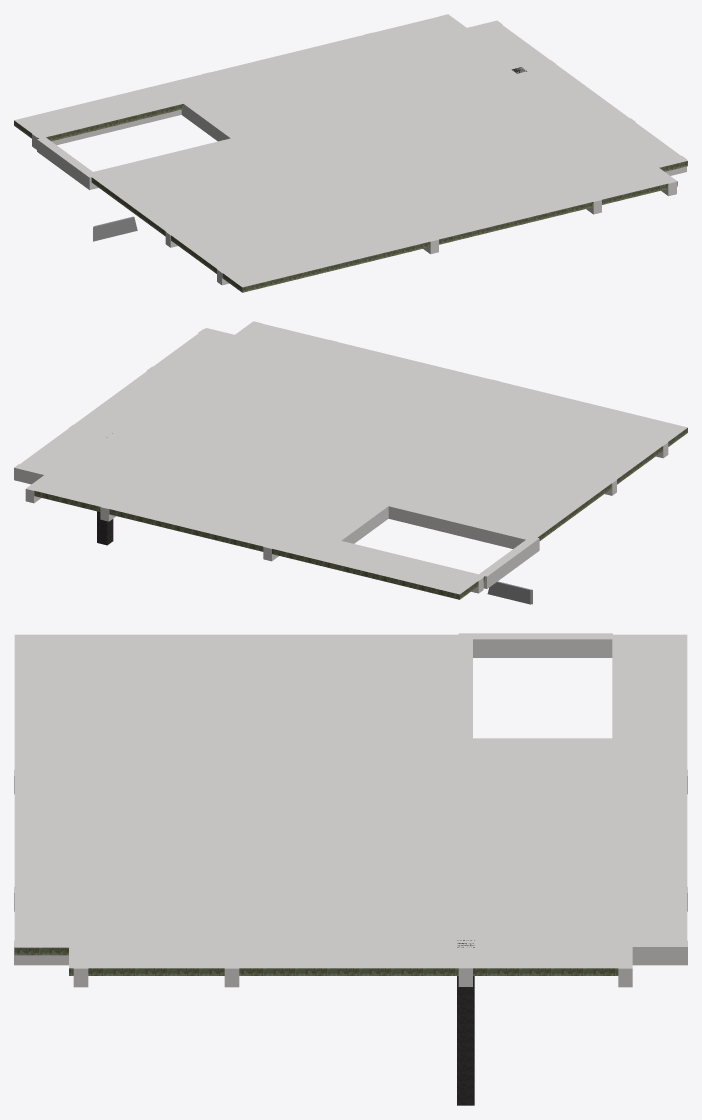
3 views of the same model, one above another, from view 1: azimuth 30°, elevation 25°; view 2: azimuth 150°, elevation 25°; view 3: azimuth 270°, elevation 25° (orthographic). The views are drawn at different scales.
Visible parts, largest first — view 1: Floor Floor-Grnd-Susp_65Scr-80Ins-100Blk-75PC [658864]001, Concrete - Rectangular Beam 250 x 350 mm [660211]001, Concrete - Rectangular Beam 250 x 350 mm [660381]001, Concrete - Rectangular Beam 250 x 350 mm [660640]001, Concrete - Rectangular Beam 250 x 350 mm [660540]001, Concrete - Rectangular Beam 250 x 350 mm [660328]001, Concrete - Rectangular Beam 250 x 350 mm [660267]001, Concrete - Rectangular Beam 250 x 350 mm [673719]001, Concrete - Rectangular Beam 250 x 350 mm [660470]001, Concrete - Rectangular Beam 250 x 350 mm [660973]001, Assembled Stair Stair [675302]_[675345]001; view 2: Floor Floor-Grnd-Susp_65Scr-80Ins-100Blk-75PC [658864]001, Concrete - Rectangular Beam 250 x 350 mm [660267]001, Concrete - Rectangular Beam 250 x 350 mm [660211]001, Concrete - Rectangular Beam 250 x 350 mm [660381]001, Concrete - Rectangular Beam 250 x 350 mm [660328]001, Concrete - Rectangular Beam 250 x 350 mm [660640]001, Concrete - Rectangular Beam 250 x 350 mm [660470]001, Concrete - Rectangular Beam 250 x 350 mm [660540]001, Concrete - Rectangular Beam 250 x 350 mm [673719]001, Concrete - Rectangular Beam 250 x 350 mm [660973]001, Assembled Stair Stair [675302]_[675345]001, Columns_Rectangular 300 x 300 mm [625676]001; view 3: Floor Floor-Grnd-Susp_65Scr-80Ins-100Blk-75PC [658864]001, Concrete - Rectangular Beam 250 x 350 mm [660640]001, Concrete - Rectangular Beam 250 x 350 mm [660381]001, Concrete - Rectangular Beam 250 x 350 mm [660328]001, Concrete - Rectangular Beam 250 x 350 mm [660267]001, Concrete - Rectangular Beam 250 x 350 mm [660211]001, Concrete - Rectangular Beam 250 x 350 mm [660470]001, Concrete - Rectangular Beam 250 x 350 mm [660540]001, Concrete - Rectangular Beam 250 x 350 mm [673719]001, Columns_Rectangular 300 x 300 mm [625676]001, Concrete - Rectangular Beam 250 x 350 mm [660973]001.
Boxes of the visible parts, x1=… form: Floor Floor-Grnd-Susp_65Scr-80Ins-100Blk-75PC [658864]001: x1=14, y1=16, x2=687, y2=292; Concrete - Rectangular Beam 250 x 350 mm [660211]001: x1=32, y1=20, x2=502, y2=149; Concrete - Rectangular Beam 250 x 350 mm [660381]001: x1=217, y1=156, x2=686, y2=285; Concrete - Rectangular Beam 250 x 350 mm [660640]001: x1=440, y1=14, x2=676, y2=196; Concrete - Rectangular Beam 250 x 350 mm [660540]001: x1=365, y1=32, x2=601, y2=214; Concrete - Rectangular Beam 250 x 350 mm [660328]001: x1=165, y1=118, x2=635, y2=247; Concrete - Rectangular Beam 250 x 350 mm [660267]001: x1=84, y1=60, x2=555, y2=189; Concrete - Rectangular Beam 250 x 350 mm [673719]001: x1=37, y1=137, x2=92, y2=186; Concrete - Rectangular Beam 250 x 350 mm [660470]001: x1=202, y1=72, x2=438, y2=254; Concrete - Rectangular Beam 250 x 350 mm [660973]001: x1=181, y1=100, x2=234, y2=141; Assembled Stair Stair [675302]_[675345]001: x1=93, y1=216, x2=137, y2=241; Floor Floor-Grnd-Susp_65Scr-80Ins-100Blk-75PC [658864]001: x1=16, y1=321, x2=687, y2=599; Concrete - Rectangular Beam 250 x 350 mm [660267]001: x1=69, y1=424, x2=539, y2=553; Concrete - Rectangular Beam 250 x 350 mm [660211]001: x1=14, y1=464, x2=483, y2=593; Concrete - Rectangular Beam 250 x 350 mm [660381]001: x1=198, y1=329, x2=668, y2=458; Concrete - Rectangular Beam 250 x 350 mm [660328]001: x1=147, y1=366, x2=616, y2=495; Concrete - Rectangular Beam 250 x 350 mm [660640]001: x1=25, y1=321, x2=262, y2=503; Concrete - Rectangular Beam 250 x 350 mm [660470]001: x1=263, y1=379, x2=499, y2=561; Concrete - Rectangular Beam 250 x 350 mm [660540]001: x1=100, y1=339, x2=337, y2=521; Concrete - Rectangular Beam 250 x 350 mm [673719]001: x1=479, y1=540, x2=534, y2=588; Concrete - Rectangular Beam 250 x 350 mm [660973]001: x1=331, y1=505, x2=388, y2=543; Assembled Stair Stair [675302]_[675345]001: x1=487, y1=581, x2=532, y2=604; Columns_Rectangular 300 x 300 mm [625676]001: x1=97, y1=433, x2=113, y2=545; Floor Floor-Grnd-Susp_65Scr-80Ins-100Blk-75PC [658864]001: x1=14, y1=634, x2=687, y2=975; Concrete - Rectangular Beam 250 x 350 mm [660640]001: x1=14, y1=940, x2=687, y2=965; Concrete - Rectangular Beam 250 x 350 mm [660381]001: x1=73, y1=634, x2=88, y2=987; Concrete - Rectangular Beam 250 x 350 mm [660328]001: x1=224, y1=634, x2=239, y2=987; Concrete - Rectangular Beam 250 x 350 mm [660267]001: x1=458, y1=633, x2=472, y2=986; Concrete - Rectangular Beam 250 x 350 mm [660211]001: x1=618, y1=634, x2=632, y2=987; Concrete - Rectangular Beam 250 x 350 mm [660470]001: x1=14, y1=769, x2=687, y2=794; Concrete - Rectangular Beam 250 x 350 mm [660540]001: x1=14, y1=887, x2=687, y2=911; Concrete - Rectangular Beam 250 x 350 mm [673719]001: x1=473, y1=633, x2=612, y2=657; Columns_Rectangular 300 x 300 mm [625676]001: x1=457, y1=940, x2=474, y2=1105; Concrete - Rectangular Beam 250 x 350 mm [660973]001: x1=473, y1=738, x2=618, y2=744.
Size of the model in its own units: 13.64 by 3 by 11.58.
5 materials, 2 textured.
